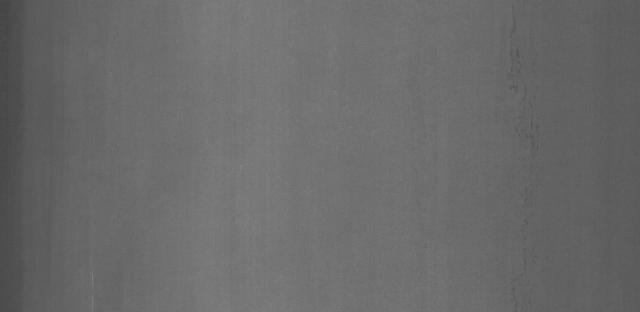silk_spot: (490, 25, 561, 221)
